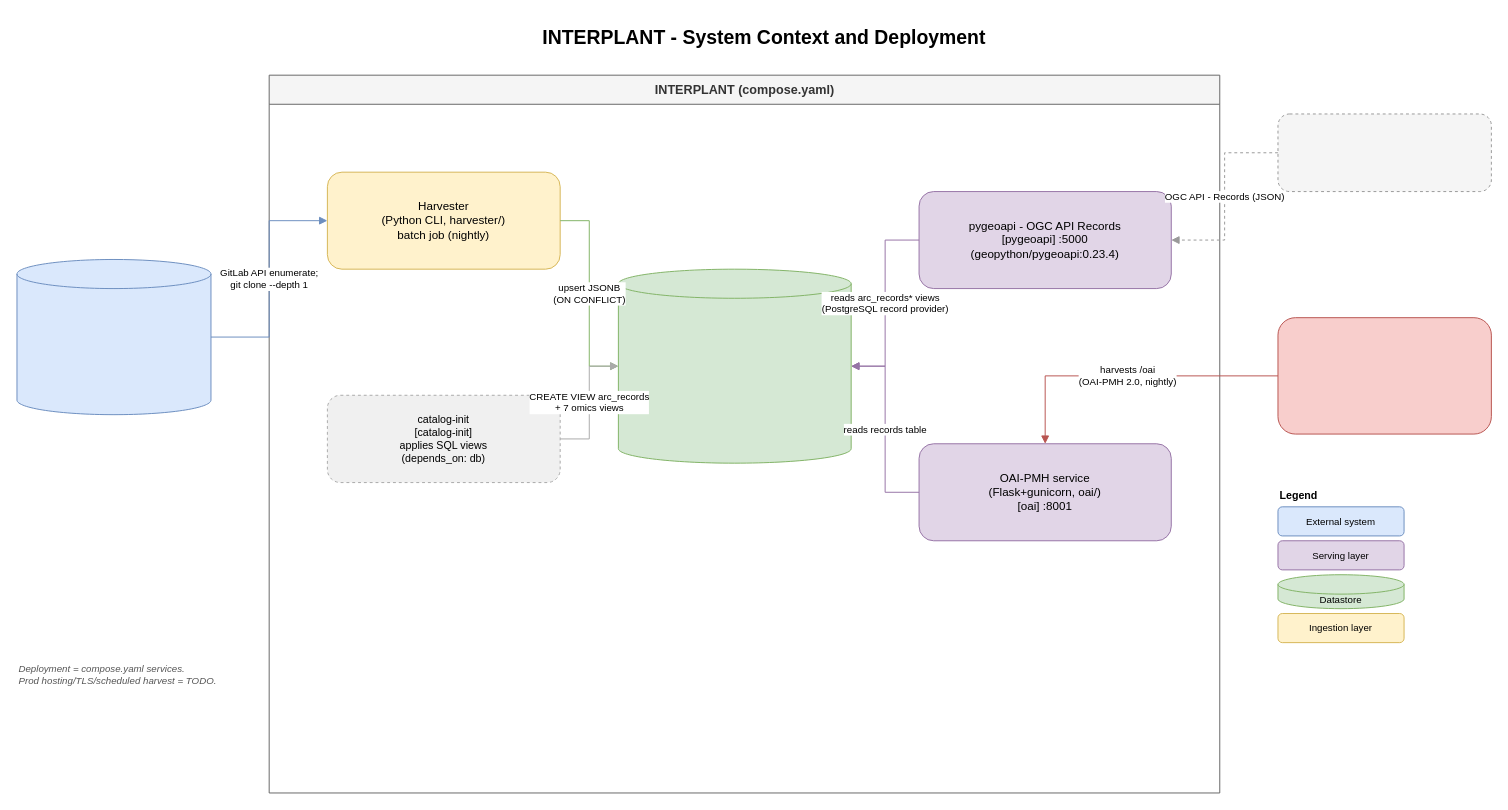
This 1508x810 diagram has some shape labels left out. The shapes that lost their labels are listed below. From the top down, each one's centre as x and y in pixels, then its label:
(x=1384, y=152): Geospatial / OGC clients (optional)
(x=113, y=337): DataPLANT GitLab (git.nfdi4plants.org) Source of public ARCs (ISA-Tab in XLSX)
(x=734, y=365): Postgres 17 + PostGIS 3.6 [db] port 5432 records (JSONB) arc_records views
(x=1384, y=375): AWI Earth Data Portal (o2a / DocumentSchema) Consumes OAI-PMH metadata nightly
